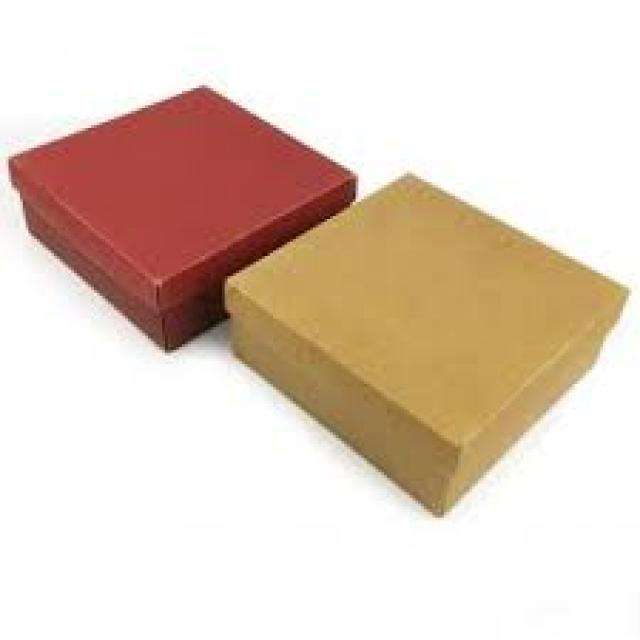Cardboard: (222, 171, 627, 520), (8, 85, 359, 354)
